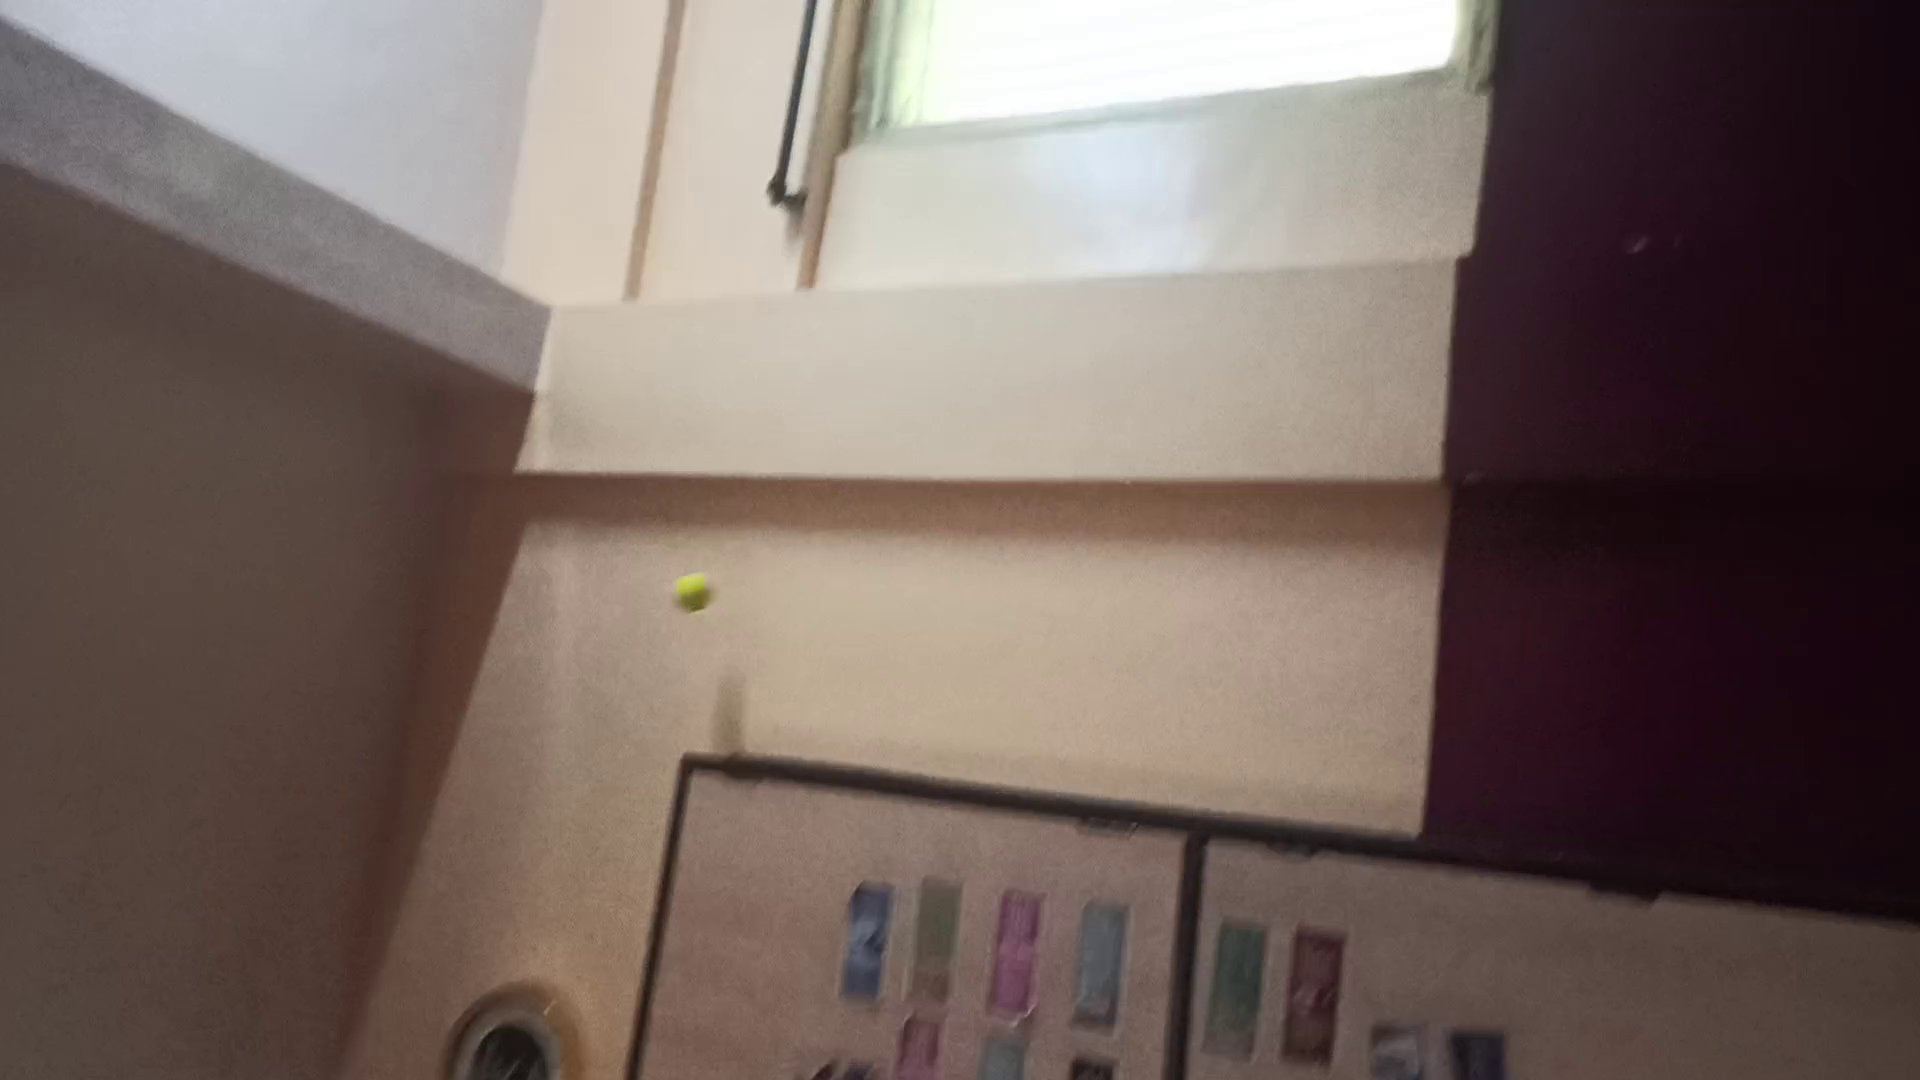Tennis-Ball: (673, 572, 713, 612)
